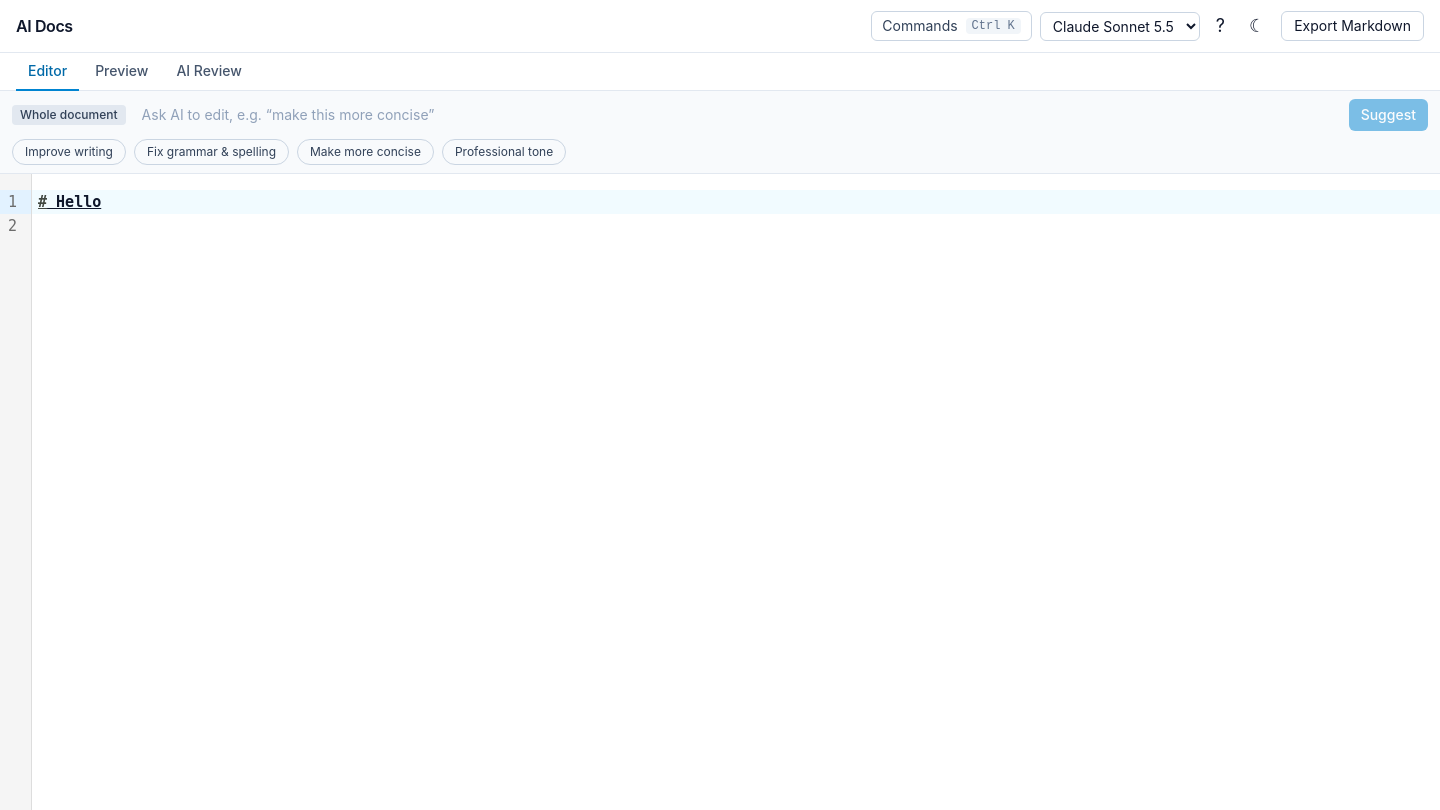
Test: App version history › records an AI version when a suggestion is accepted
Step 1. Type "Make it friendlier" into the field named "AI instruction" → point(737, 115), box [134,101,1341,129]
Then press Enter
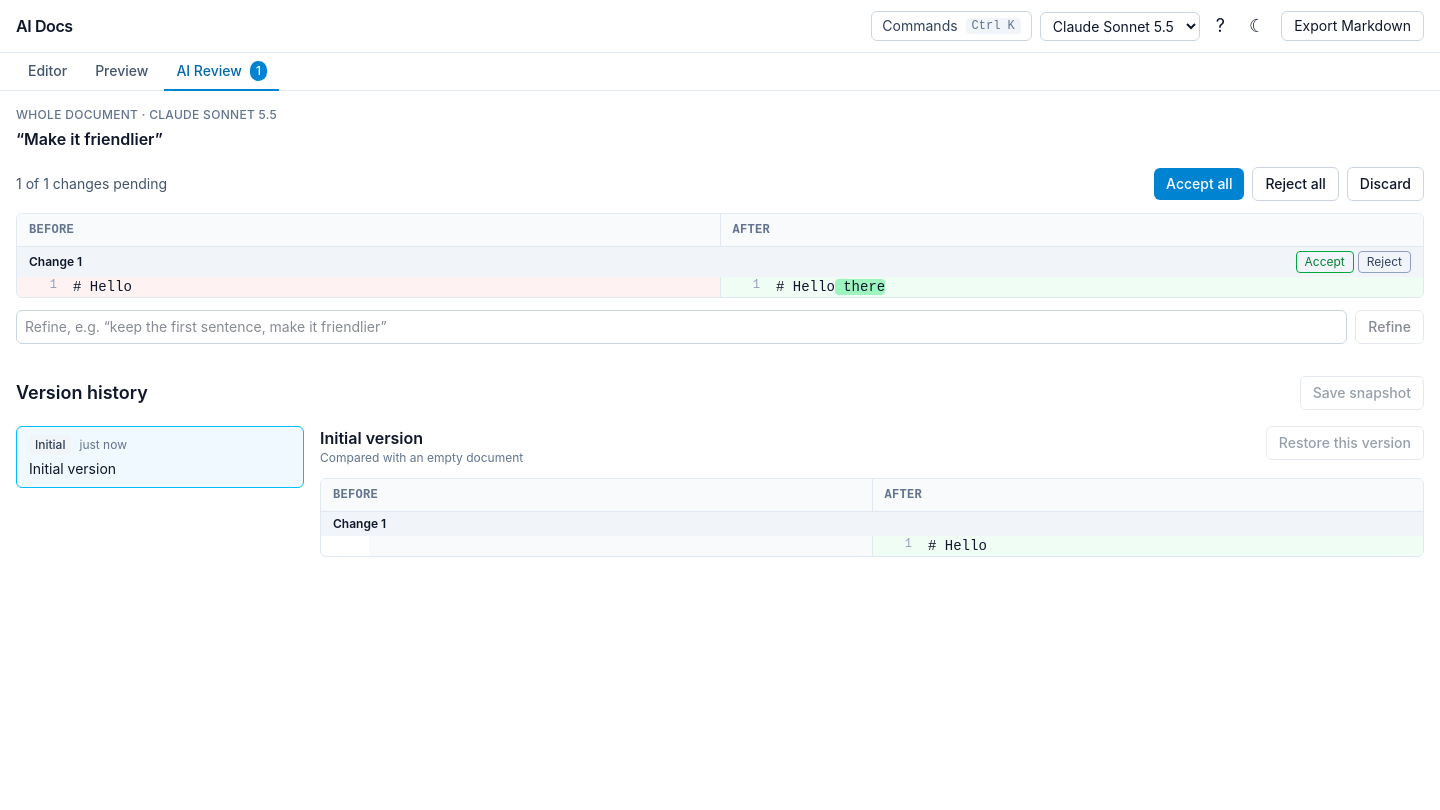
Step 2. Click the button "Accept all" → point(1199, 184), box [1154,168,1244,200]
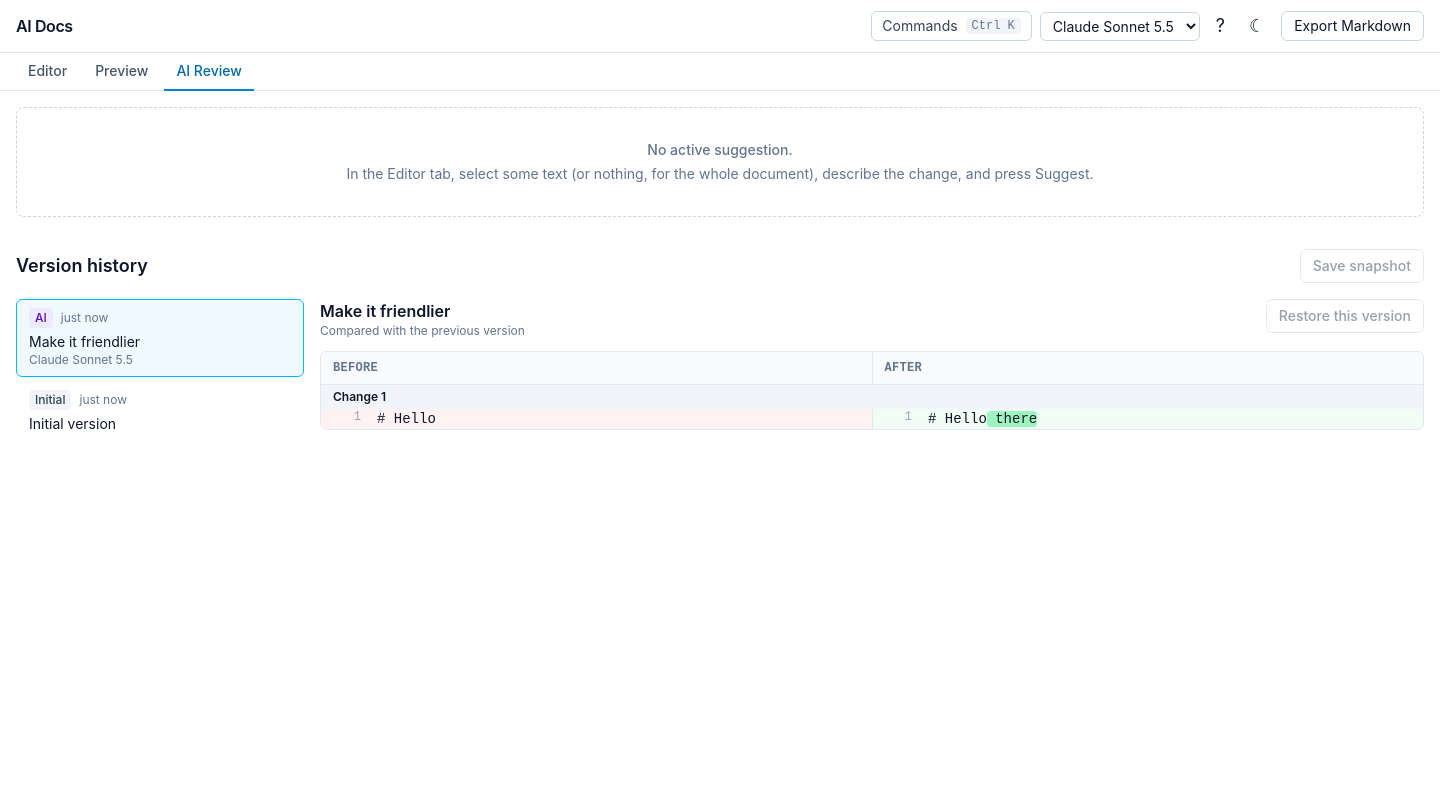
Check: the number of list items is 2, box [16,299,304,377]; [16,381,304,443]
Check: the text "AI" is shown, box [29,308,53,328]
Check: the text "Make it friendlier" is shown, box [29,333,140,350]
